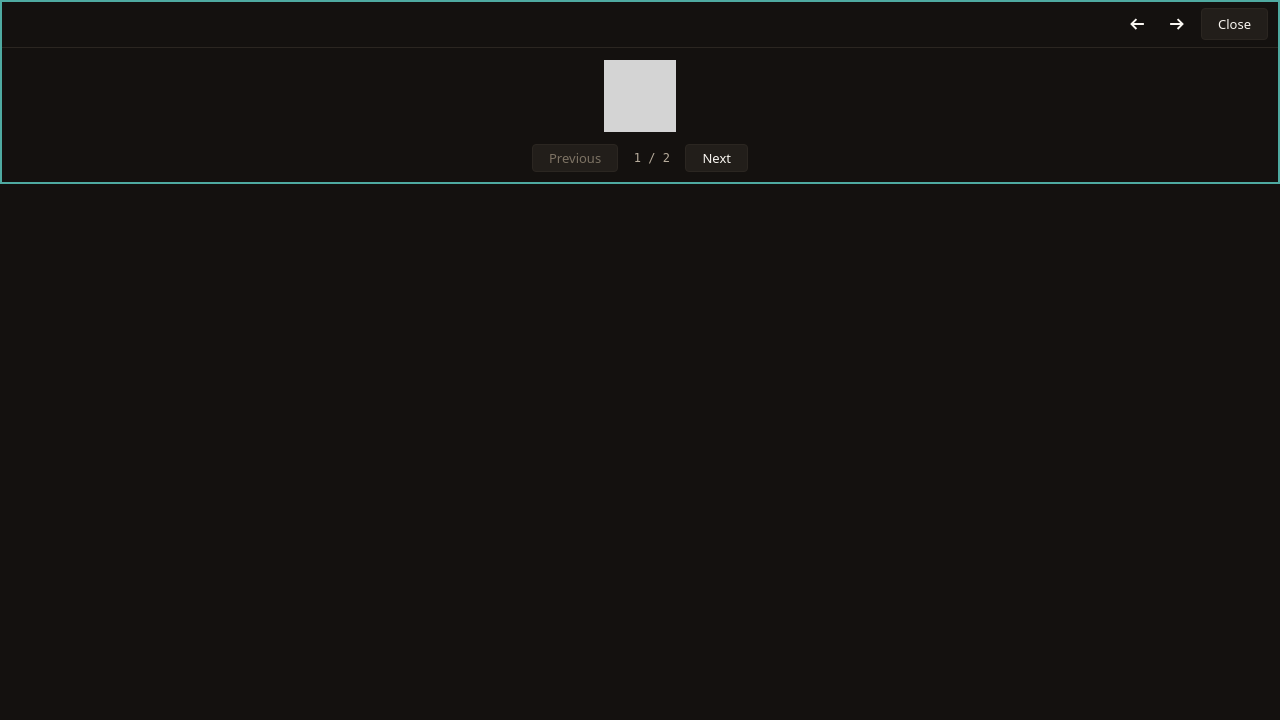
a document with pages to turn › turns pages, and stops at both ends
The width and height of the screenshot is (1280, 720).
Check: the button "Previous" is disabled, box [532,144,618,172]
Click the button "Next": (717, 158) [686,144,748,172]
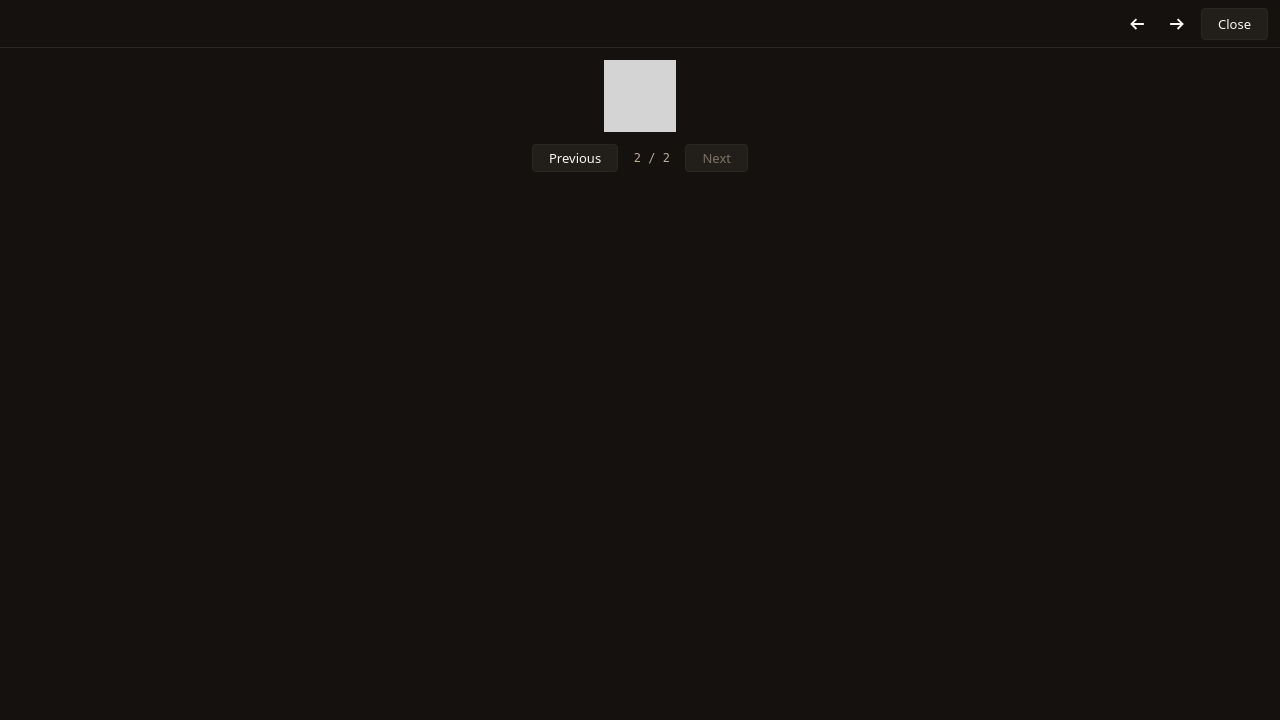
Check: the button "Next" is disabled, box [686,144,748,172]
